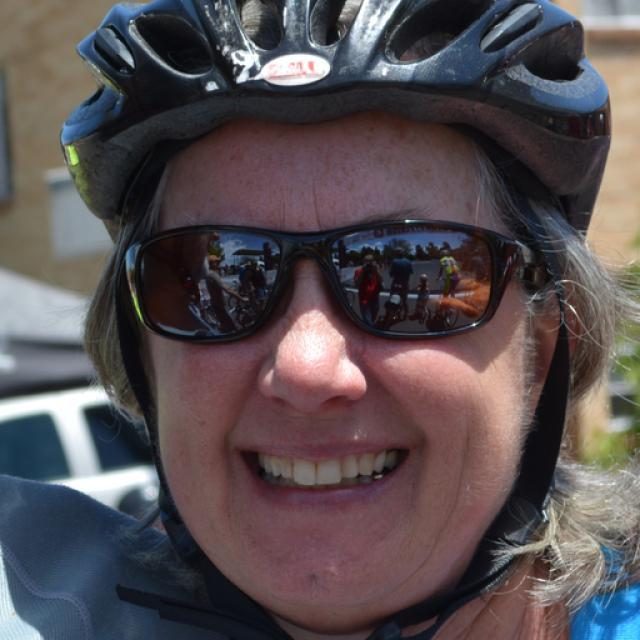happy: (134, 116, 530, 616)
